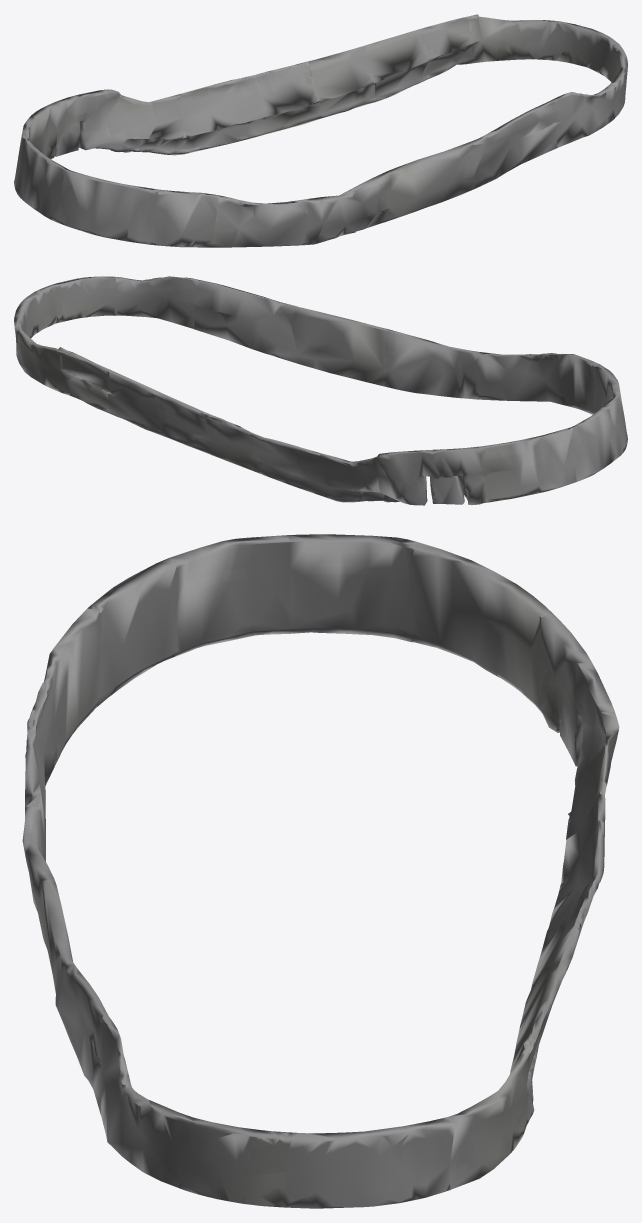
Rendered from xs_rubber_band.glb.
3 views of the same model, one above another, from view 1: azimuth 30°, elevation 25°; view 2: azimuth 150°, elevation 25°; view 3: azimuth 270°, elevation 25° (orthographic). The views are drawn at different scales.
Parts seen in each view (by area): view 1: tripo_node_ffbb686e-a6ab-4f62-96a0-9db6b024f447; view 2: tripo_node_ffbb686e-a6ab-4f62-96a0-9db6b024f447; view 3: tripo_node_ffbb686e-a6ab-4f62-96a0-9db6b024f447.
Part boxes in pixels (bbox=[...]): tripo_node_ffbb686e-a6ab-4f62-96a0-9db6b024f447: bbox=[14, 14, 627, 247]; tripo_node_ffbb686e-a6ab-4f62-96a0-9db6b024f447: bbox=[14, 276, 627, 505]; tripo_node_ffbb686e-a6ab-4f62-96a0-9db6b024f447: bbox=[22, 534, 619, 1208].
Size of the model in its own units: 0.9999 by 0.1527 by 0.4438.
Materials: 1 (1 with a texture image).
